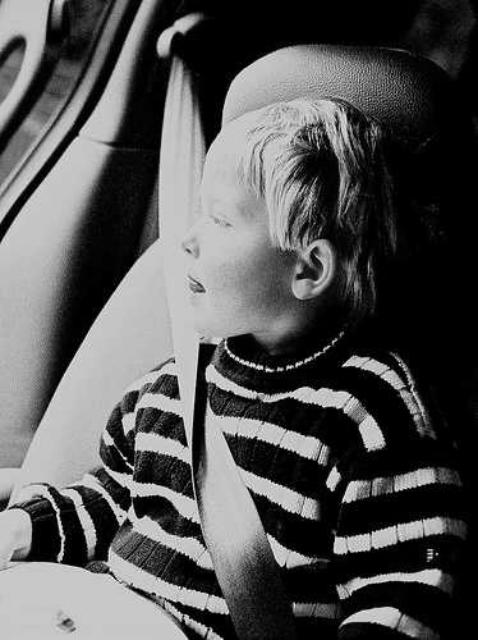Seatbelt: (155, 12, 295, 640)
